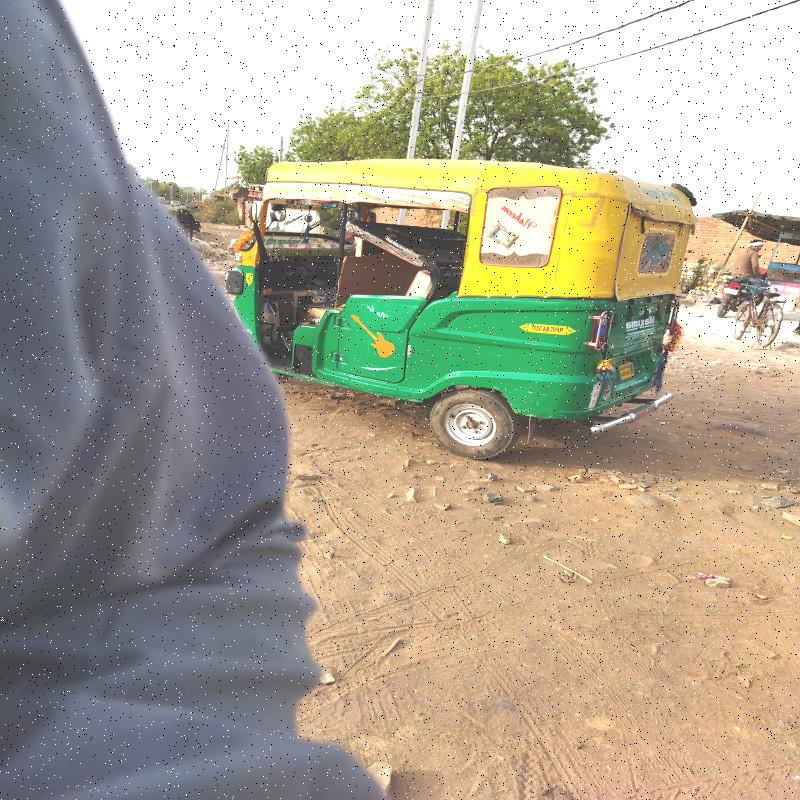auto: (230, 167, 684, 434)
